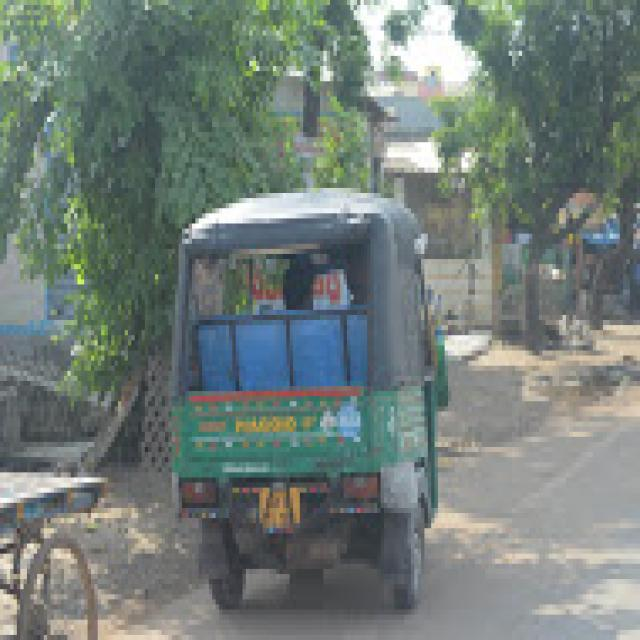auto_back: (164, 181, 444, 620)
